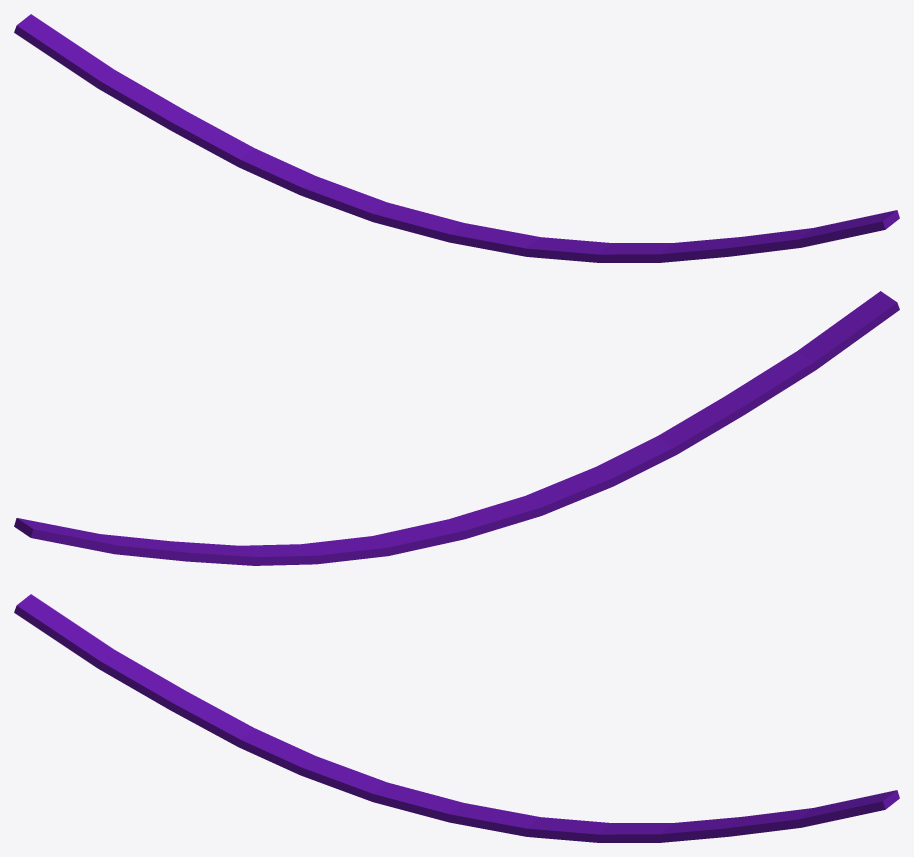
File: Tape_10_chunks.fbx
3 views of the same model, one above another, from view 1: azimuth 90°, elevation 25°; view 2: azimuth 150°, elevation 25°; view 3: azimuth 270°, elevation 25° (orthographic). The views are drawn at different scales.
Parts seen in each view (by area): view 1: Tape_10_2, Tape_10_3, Tape_10_1; view 2: Tape_10_2, Tape_10_1, Tape_10_3; view 3: Tape_10_2, Tape_10_1, Tape_10_3.
Boxes of the visible parts, box(x1,y1,x2,y2) form: Tape_10_2: box(476, 210, 899, 262); Tape_10_3: box(14, 14, 243, 156); Tape_10_1: box(211, 142, 486, 247); Tape_10_2: box(471, 291, 899, 529); Tape_10_1: box(227, 512, 491, 565); Tape_10_3: box(14, 518, 250, 563); Tape_10_2: box(14, 594, 437, 814); Tape_10_1: box(422, 798, 693, 842); Tape_10_3: box(670, 790, 899, 839).
Size of the model in its own units: 388 by 103 by 696.
